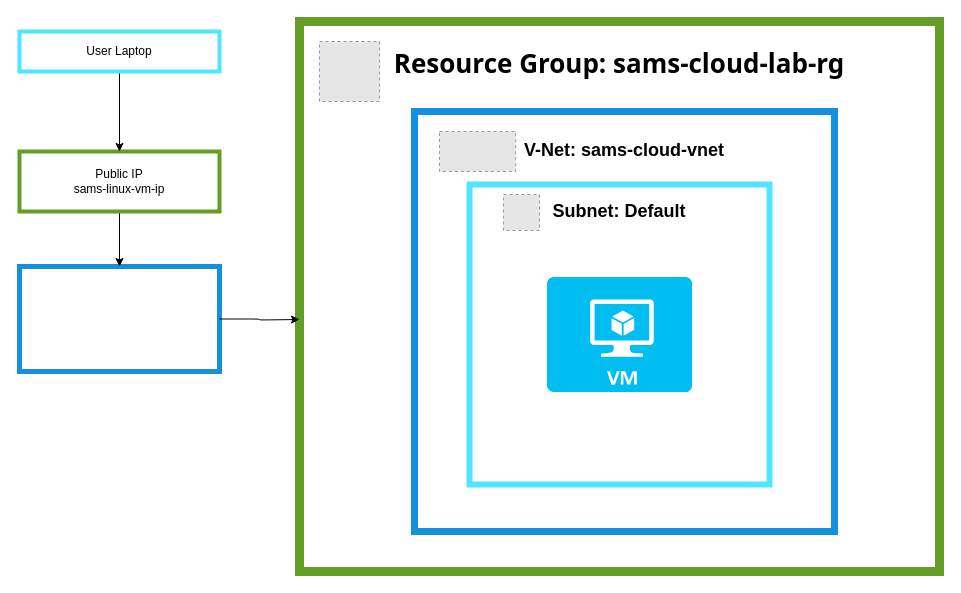
Some shapes in this 961 by 593 pixel diagram are drawn without their labels. Grey dashed boxes stand in for pictures. The centre of each missing label's shape, as x and y in pixels:
Network Security Group Allows: 22(SSH) and 80 HTTP: point 119,319
sams-linux-vm: point 619,406
